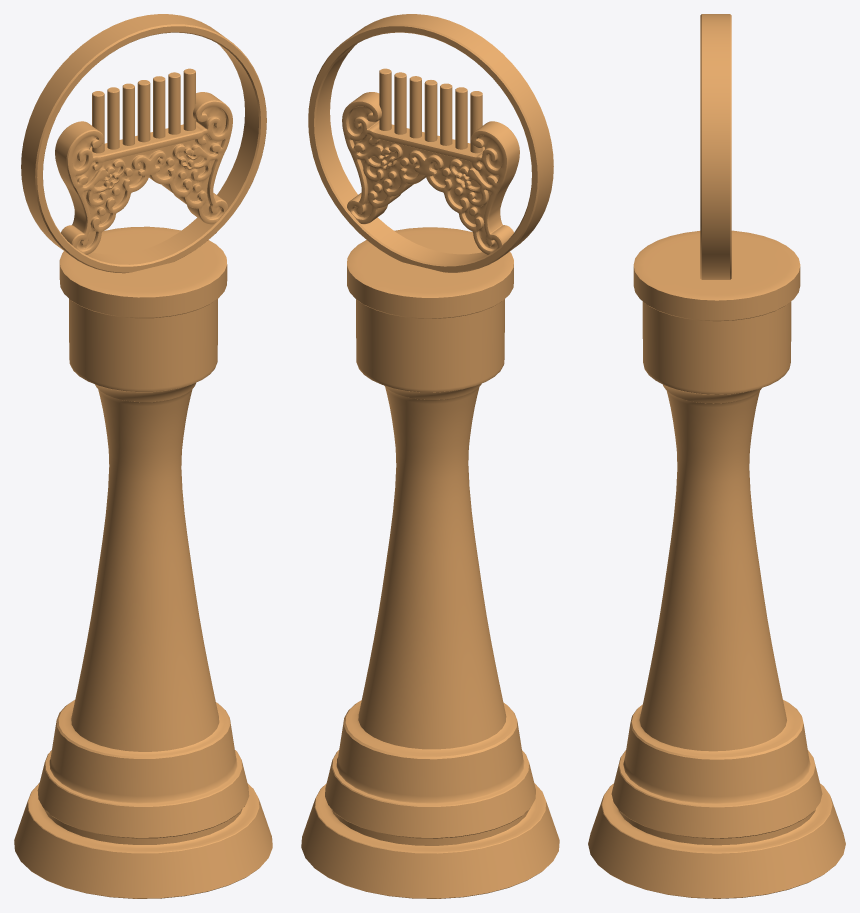
The model's file is award2.glb.
3 views of the same model, side by side, from view 1: azimuth 30°, elevation 25°; view 2: azimuth 150°, elevation 25°; view 3: azimuth 270°, elevation 25° (orthographic).
Parts seen in each view (by area): view 1: Plane; view 2: Plane; view 3: Plane.
Boxes of the visible parts, left/top/right/bottom form: Plane: left=14, top=14, right=272, bottom=898; Plane: left=301, top=14, right=559, bottom=898; Plane: left=588, top=14, right=845, bottom=898.
Bounding box in the file's own units: 9.13 × 30.98 × 8.85.
